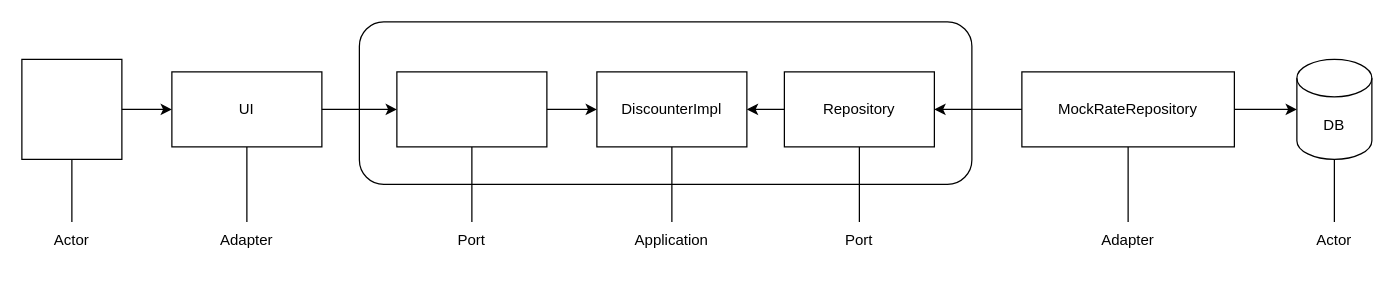
Some shapes in this 1394 by 281 pixel diagram are drawn without their labels. The shapes that lost their labels are listed below. From the top down, each one's box as (x1, y1, x2, y2) in pixels, then its label:
(21, 58, 122, 159): CLI
(396, 71, 547, 147): Discounter
(358, 21, 972, 184): Domain
